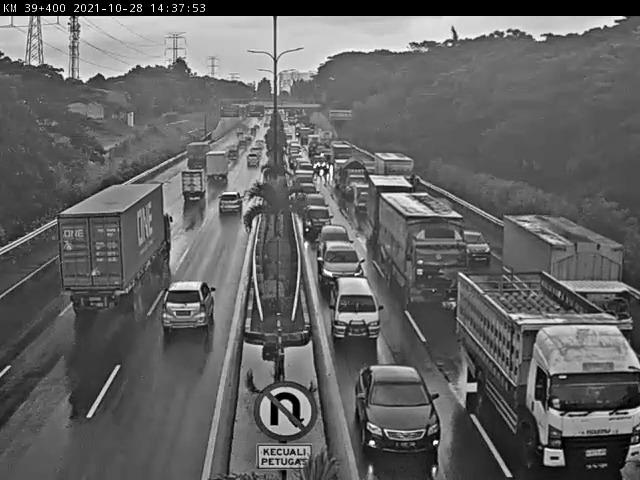big truck: (443, 260, 640, 472), (493, 198, 640, 349), (28, 179, 177, 327), (374, 188, 466, 312)
car: (350, 344, 454, 467), (159, 270, 224, 351), (314, 235, 374, 284), (207, 194, 249, 235), (314, 219, 359, 257), (305, 203, 339, 241), (453, 222, 482, 263), (302, 190, 332, 212)
small bus: (324, 275, 401, 341)
small truck: (168, 164, 214, 219), (175, 136, 213, 181), (183, 154, 229, 185)
